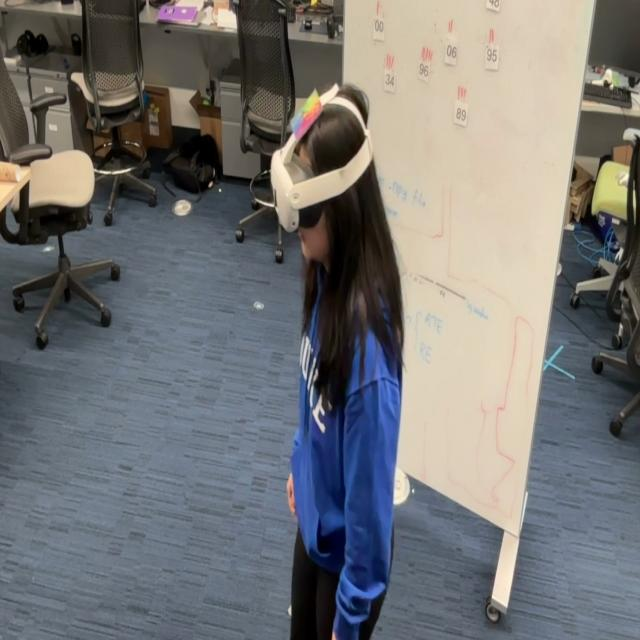Headset: (270, 82, 373, 234)
Marker: (290, 89, 323, 141)
